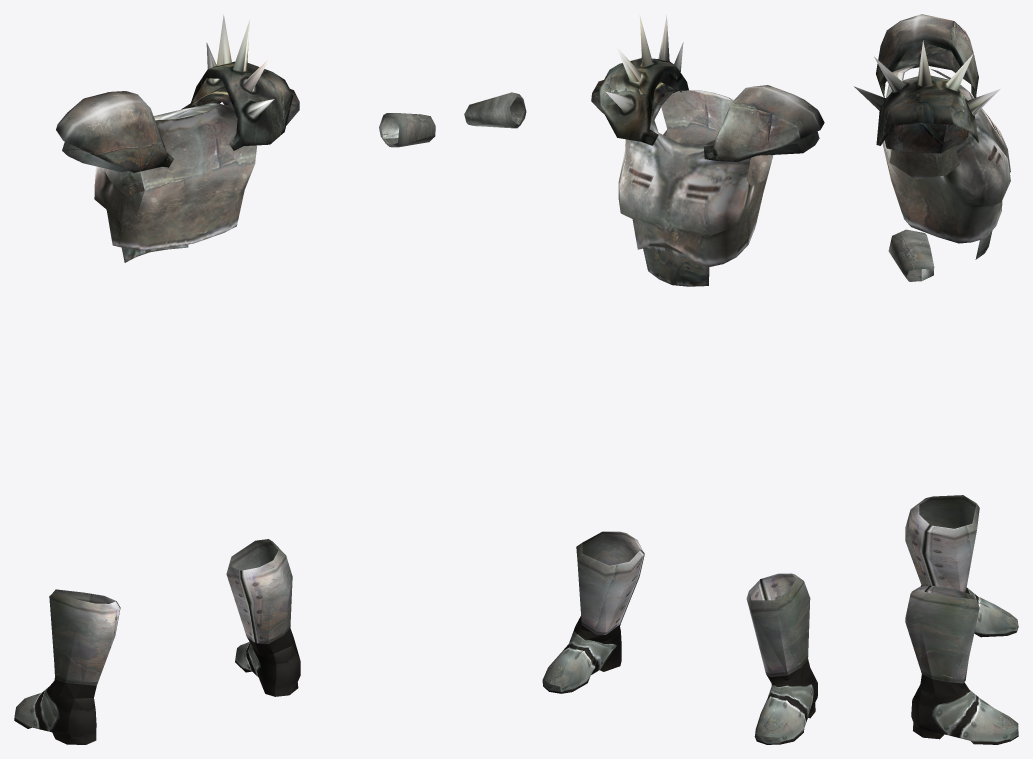
Rendered from Armor_Female_metalarmor.obj.
3 views of the same model, side by side, from view 1: azimuth 30°, elevation 25°; view 2: azimuth 150°, elevation 25°; view 3: azimuth 270°, elevation 25° (orthographic). The views are drawn at different scales.
Visible parts, largest first — view 1: Boots, MA, Object01, Bracer, Shoulders; view 2: MA, Boots, Object01, Bracer, Shoulders; view 3: Boots, MA, Object01, Shoulders, Bracer.
Part boxes in pixels (left/top/right/bottom): Boots: left=14, top=539, right=300, bottom=744; MA: left=94, top=102, right=257, bottom=262; Object01: left=56, top=14, right=293, bottom=172; Bracer: left=379, top=113, right=435, bottom=147; Shoulders: left=62, top=86, right=299, bottom=172; MA: left=618, top=90, right=773, bottom=286; Boots: left=542, top=531, right=817, bottom=744; Object01: left=599, top=15, right=824, bottom=161; Bracer: left=464, top=92, right=526, bottom=128; Shoulders: left=591, top=80, right=819, bottom=155; Boots: left=905, top=495, right=1018, bottom=744; MA: left=882, top=64, right=1010, bottom=259; Object01: left=854, top=14, right=1000, bottom=145; Shoulders: left=884, top=43, right=970, bottom=153; Bracer: left=888, top=229, right=934, bottom=281.
Bounding box in the file's own units: 54.14 × 93.19 × 20.7.
4 materials, 4 textured.
